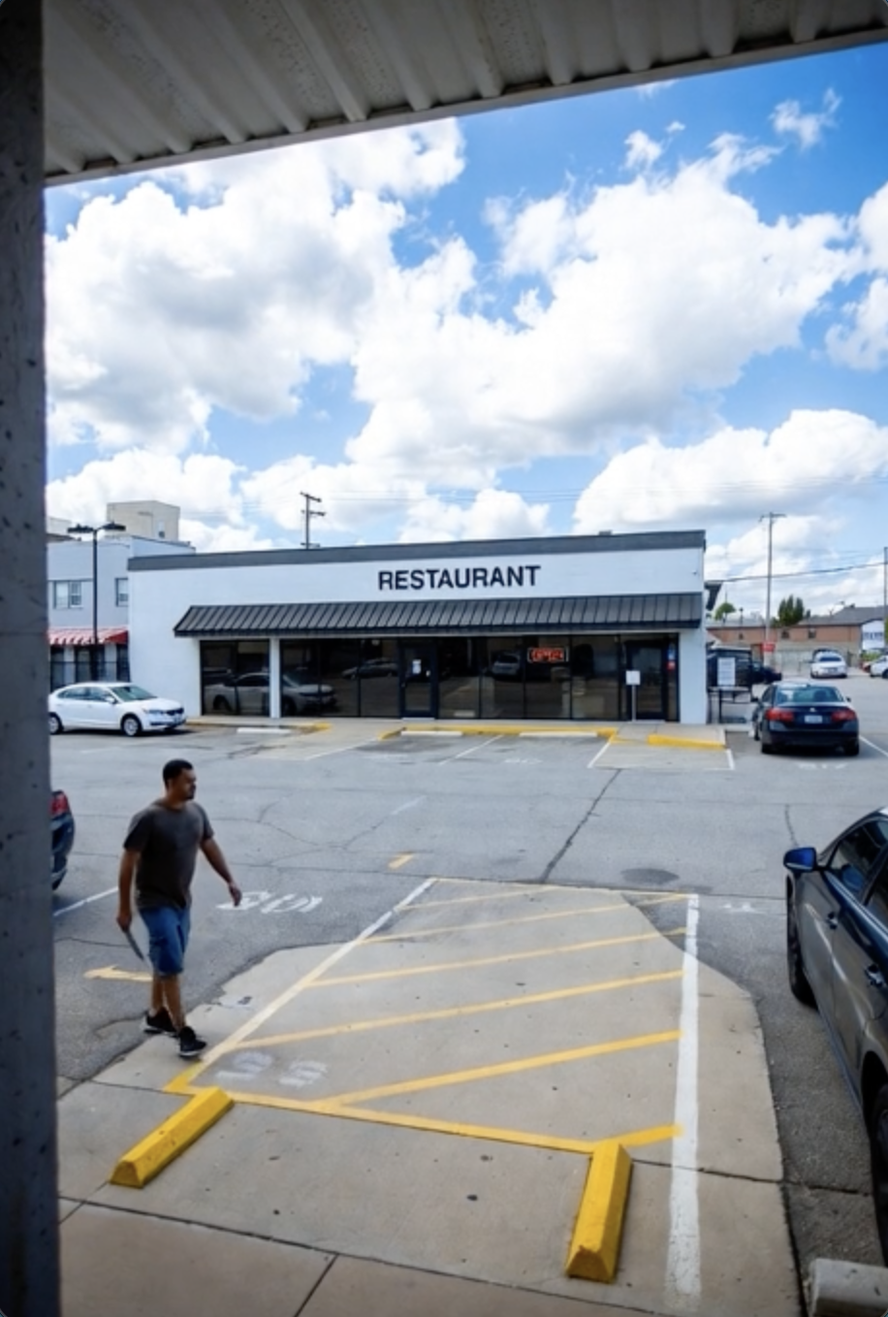Heavy Gun: (113, 753, 246, 1057)
Knife: (111, 902, 149, 962)
